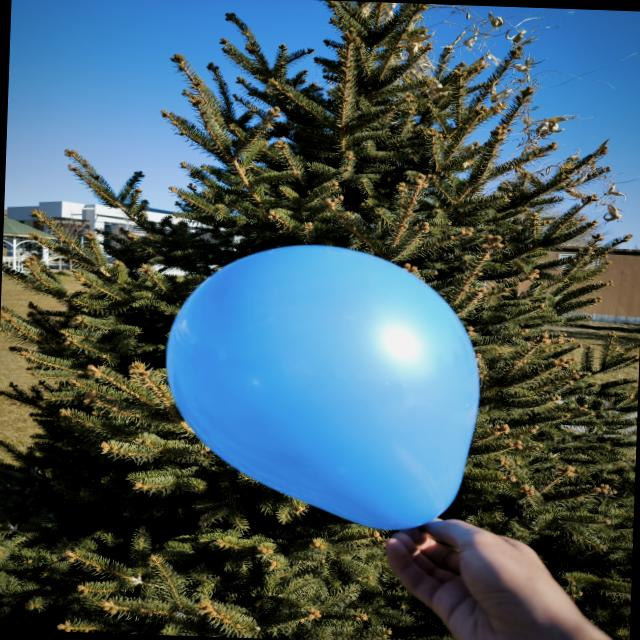balloon: (166, 245, 479, 529)
